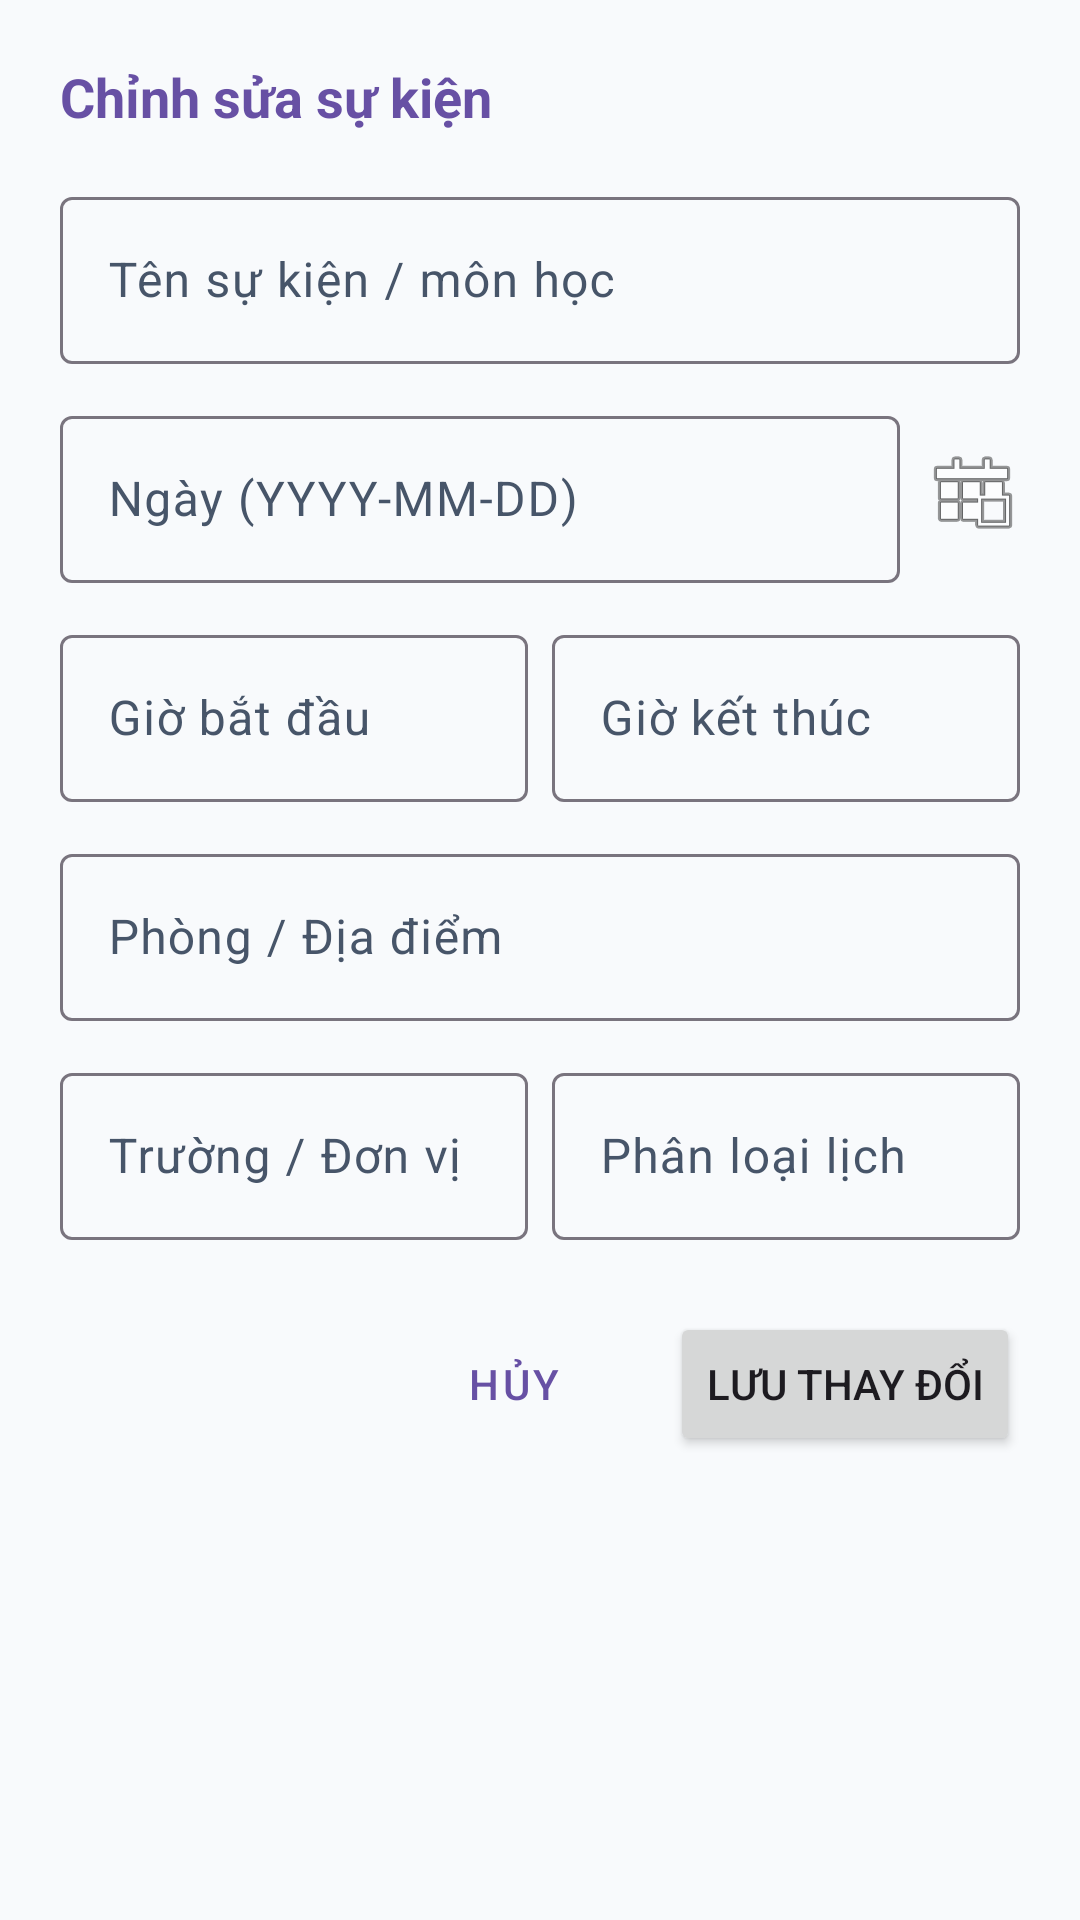

Icon click points for this 1080 x 1920 phone screenshot, format (x=x, y=y):
today: (x=973, y=492)
